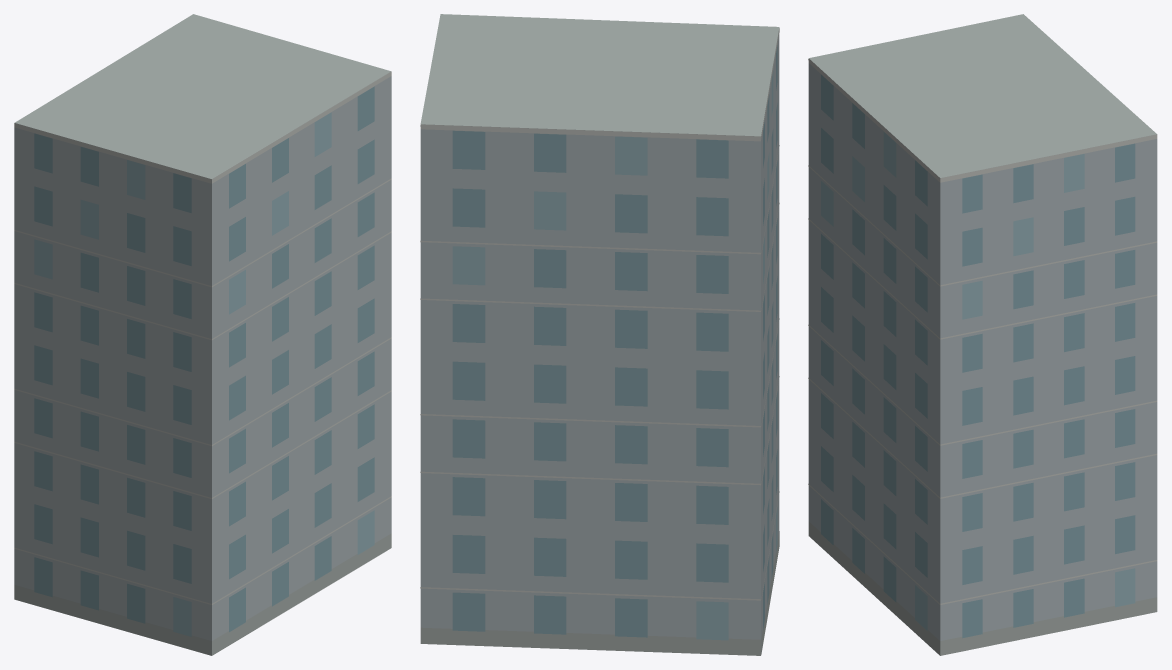
The model's file is survey-upis-32747151.glb.
The picture shows the model from 3 angles, left to right: view 1: azimuth 30°, elevation 25°; view 2: azimuth 150°, elevation 25°; view 3: azimuth 270°, elevation 25°; orthographic projection. The views are drawn at different scales.
Visible parts, largest first — view 1: survey-upis-32747151.tmp; view 2: survey-upis-32747151.tmp; view 3: survey-upis-32747151.tmp.
Part boxes in pixels (left/top/right/bottom): survey-upis-32747151.tmp: left=14, top=14, right=391, bottom=655; survey-upis-32747151.tmp: left=420, top=14, right=779, bottom=655; survey-upis-32747151.tmp: left=808, top=14, right=1157, bottom=655.
Bounding box in the file's own units: 18.59 × 25.2 × 16.69.
